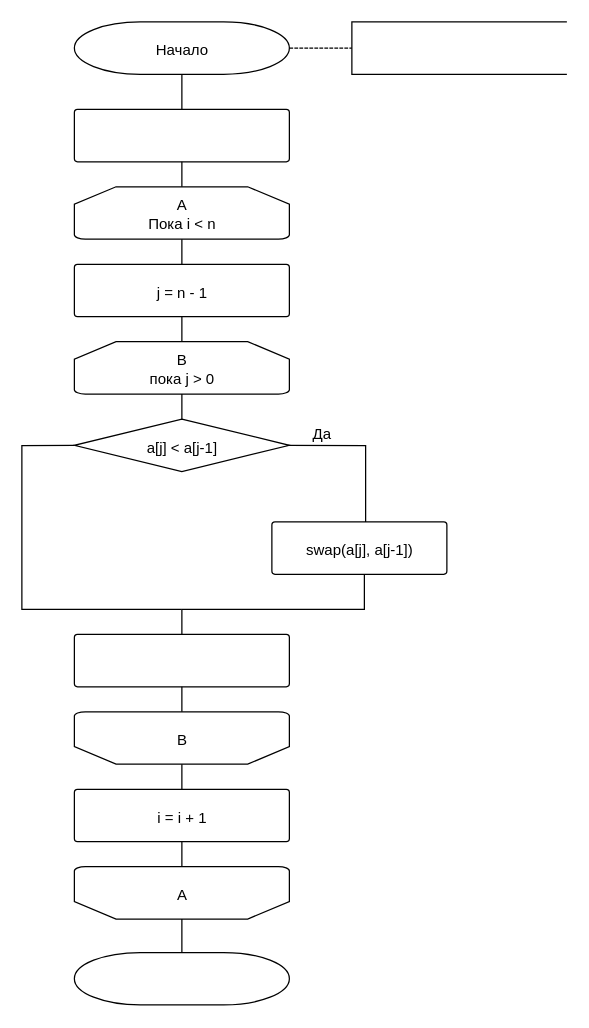
Some shapes in this 589 by 1028 pixel diagram are drawn without their labels. The shapes that lost their labels are listed below. From the top down, each one's centre as x and y in pixels, then its label:
[459,47]: a, n - массив и его размер
[181,135]: i = 0
[181,660]: j = j - 1
[181,978]: Конец
